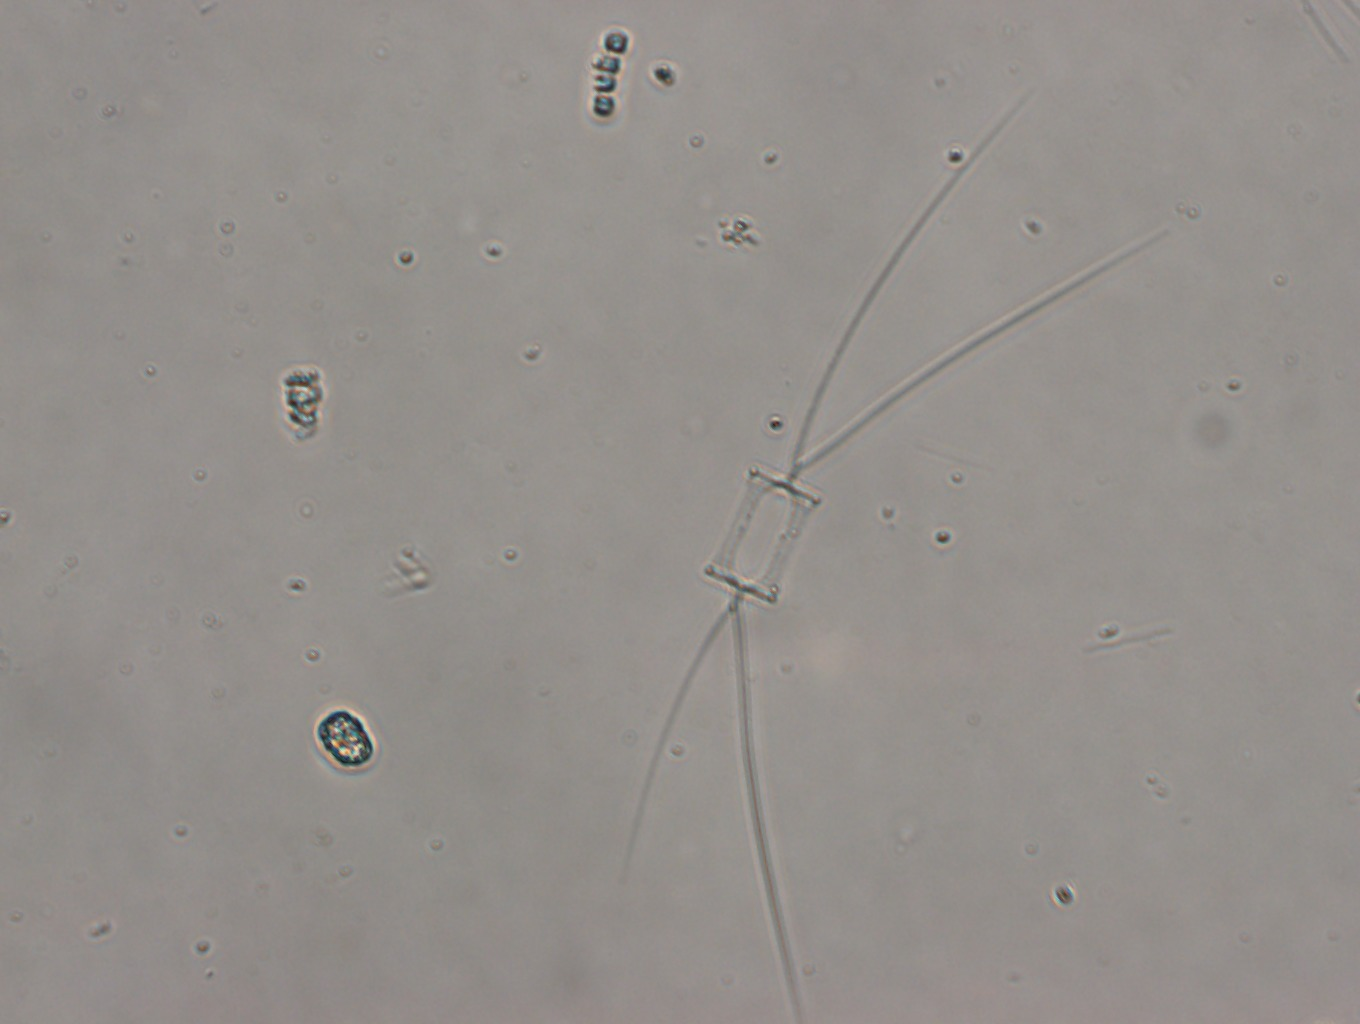chaetoceros: (638, 86, 1166, 1022)
skeletonema: (590, 28, 632, 122)
